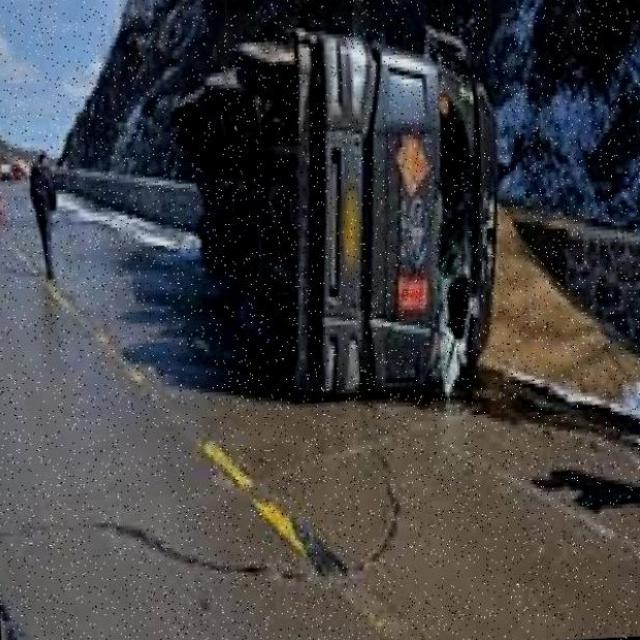accident: (156, 0, 520, 411)
